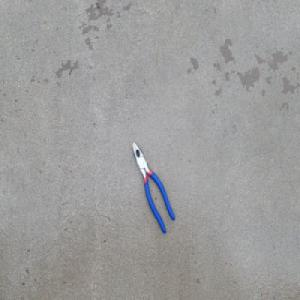Pliers: (131, 140, 175, 236)
